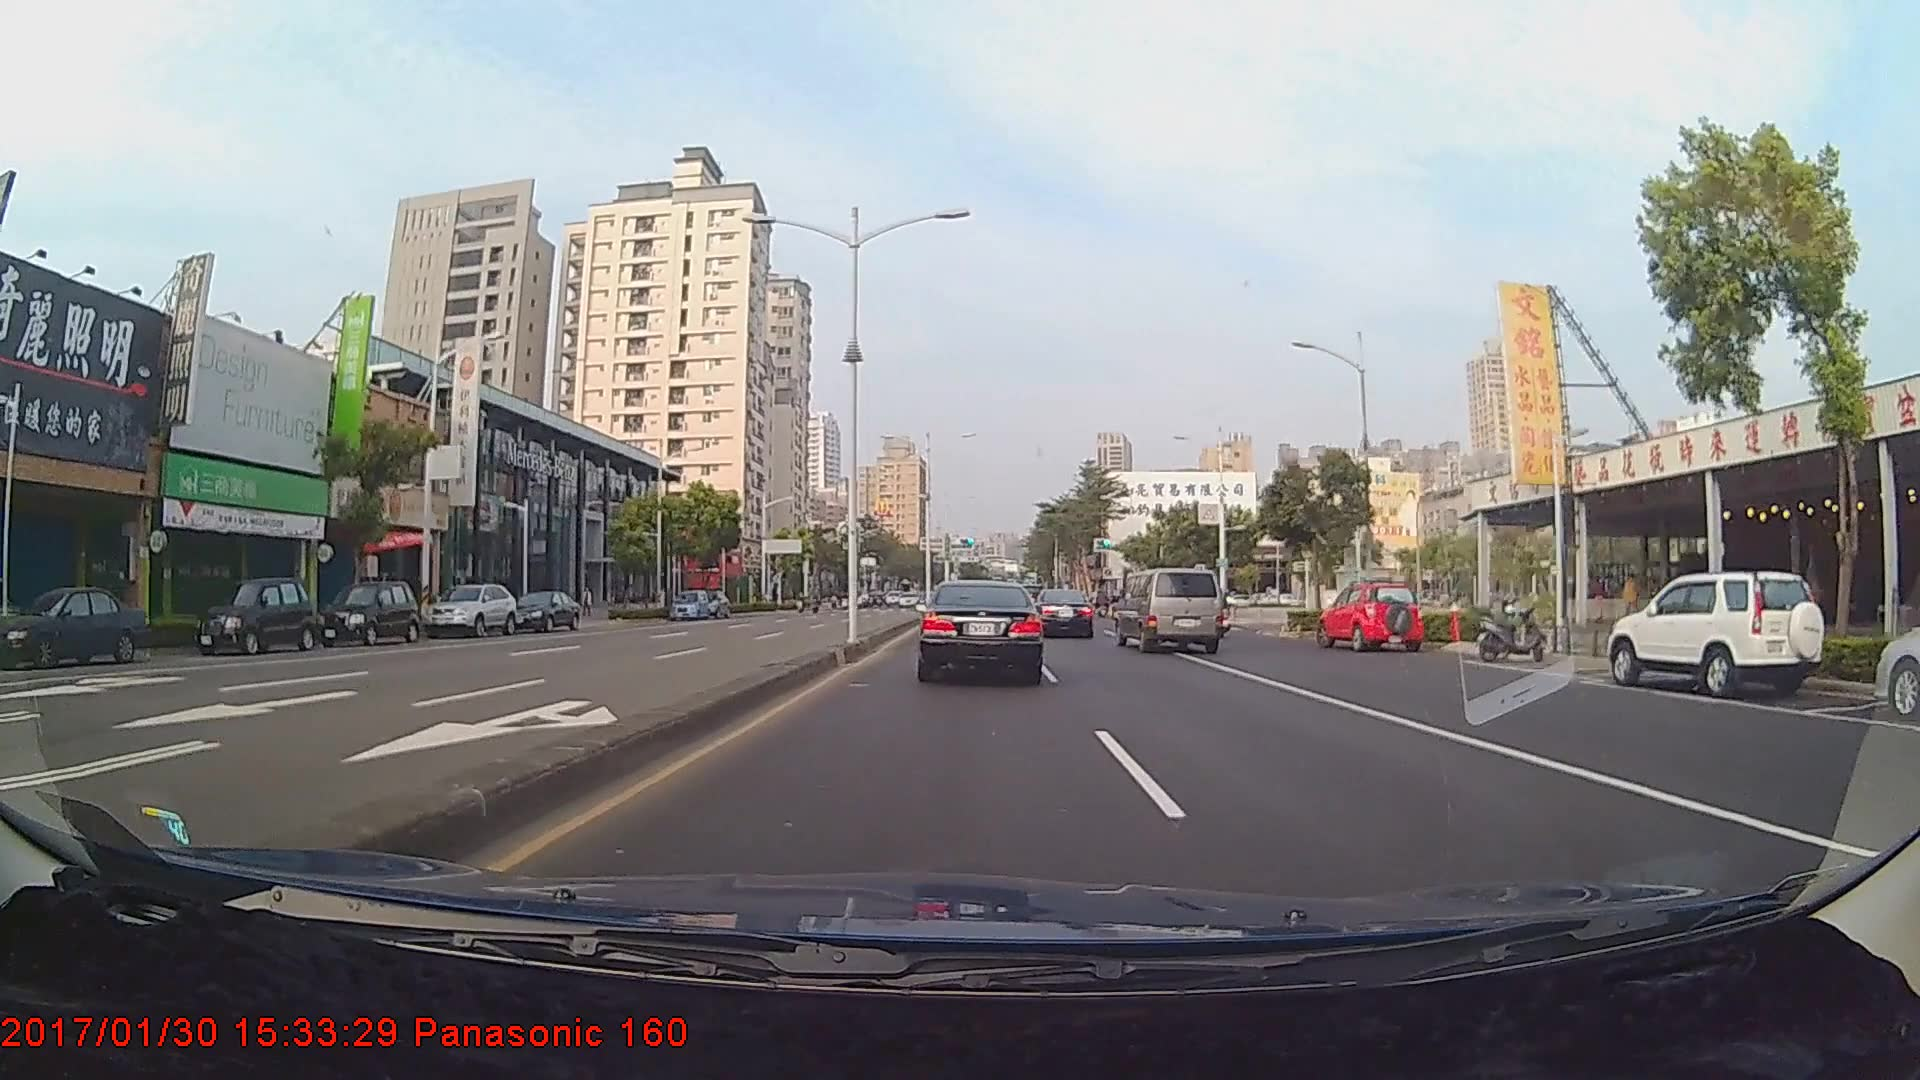vehicle: (1607, 567, 1820, 698), (914, 579, 1043, 682), (0, 583, 152, 667), (193, 575, 316, 655), (1113, 566, 1222, 653), (1321, 580, 1422, 653), (313, 579, 418, 646), (1873, 574, 1920, 721), (426, 582, 520, 640), (1033, 588, 1095, 640), (509, 587, 579, 632), (667, 589, 709, 618)
